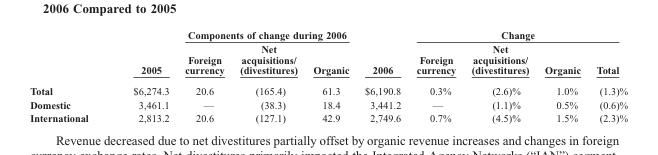table: (29, 28, 627, 123)
table column: (29, 28, 110, 123), (231, 28, 304, 123), (463, 28, 536, 123), (110, 28, 176, 123), (176, 28, 231, 123), (408, 28, 463, 123), (304, 28, 356, 123), (356, 28, 408, 123), (536, 28, 587, 123), (587, 28, 627, 123)
table column header: (29, 28, 627, 80)
table row: (29, 41, 627, 80), (29, 80, 627, 97), (29, 97, 627, 111), (29, 28, 627, 41), (29, 111, 627, 123)
table spanning cell: (110, 28, 176, 80), (408, 28, 627, 41), (356, 28, 408, 80), (176, 28, 356, 41)
